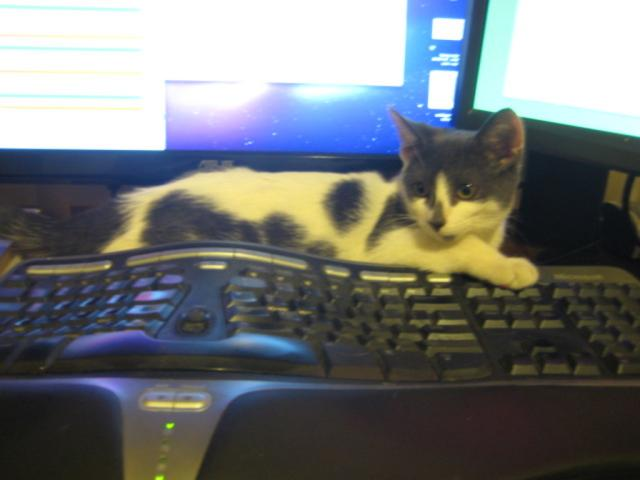Cat: (0, 107, 544, 288)
